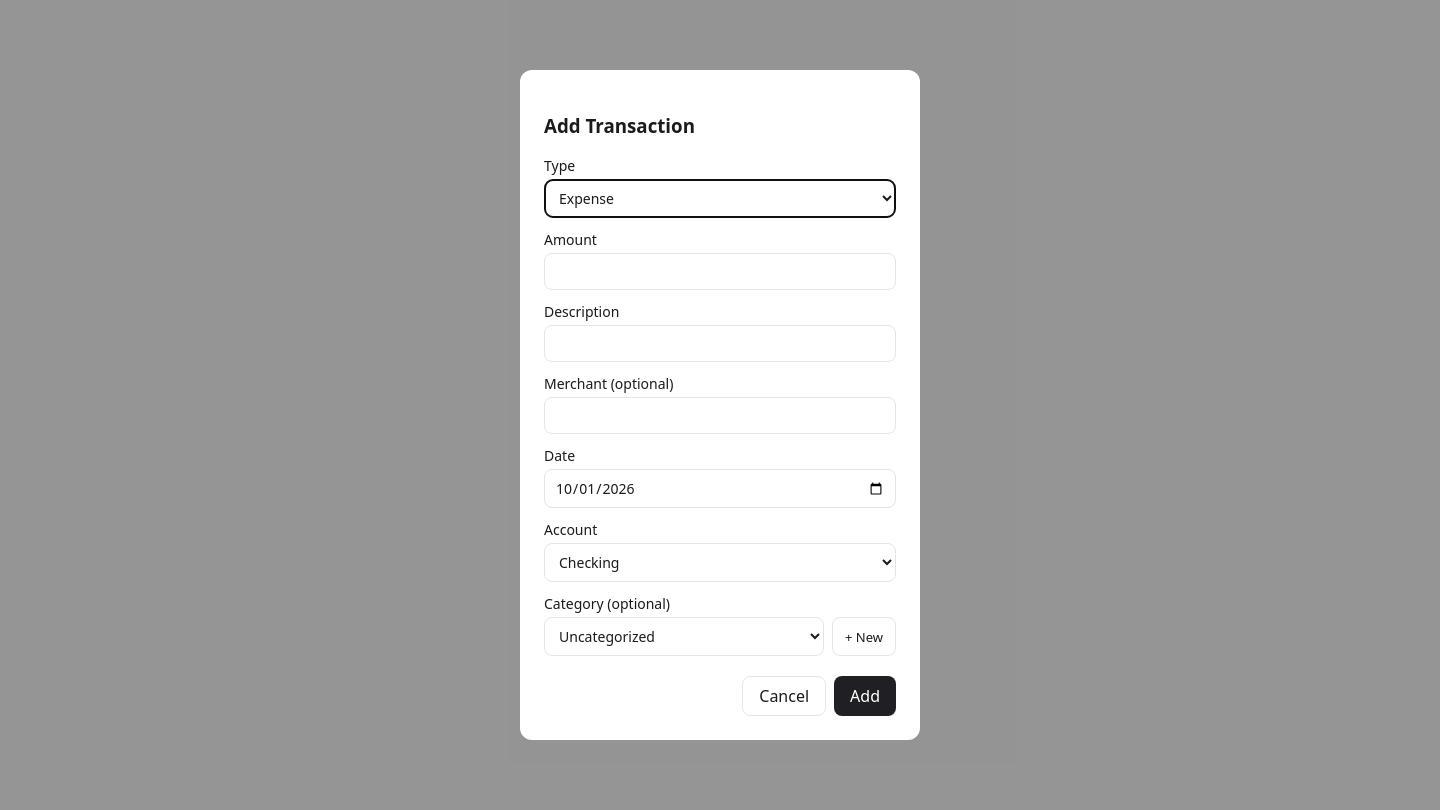
TransactionFormModal › shows a category suggestion after typing a merchant with history, and applies it
Type "Netflix" into the field labelled "Merchant (optional)" at (720, 416), box [544, 397, 896, 434]
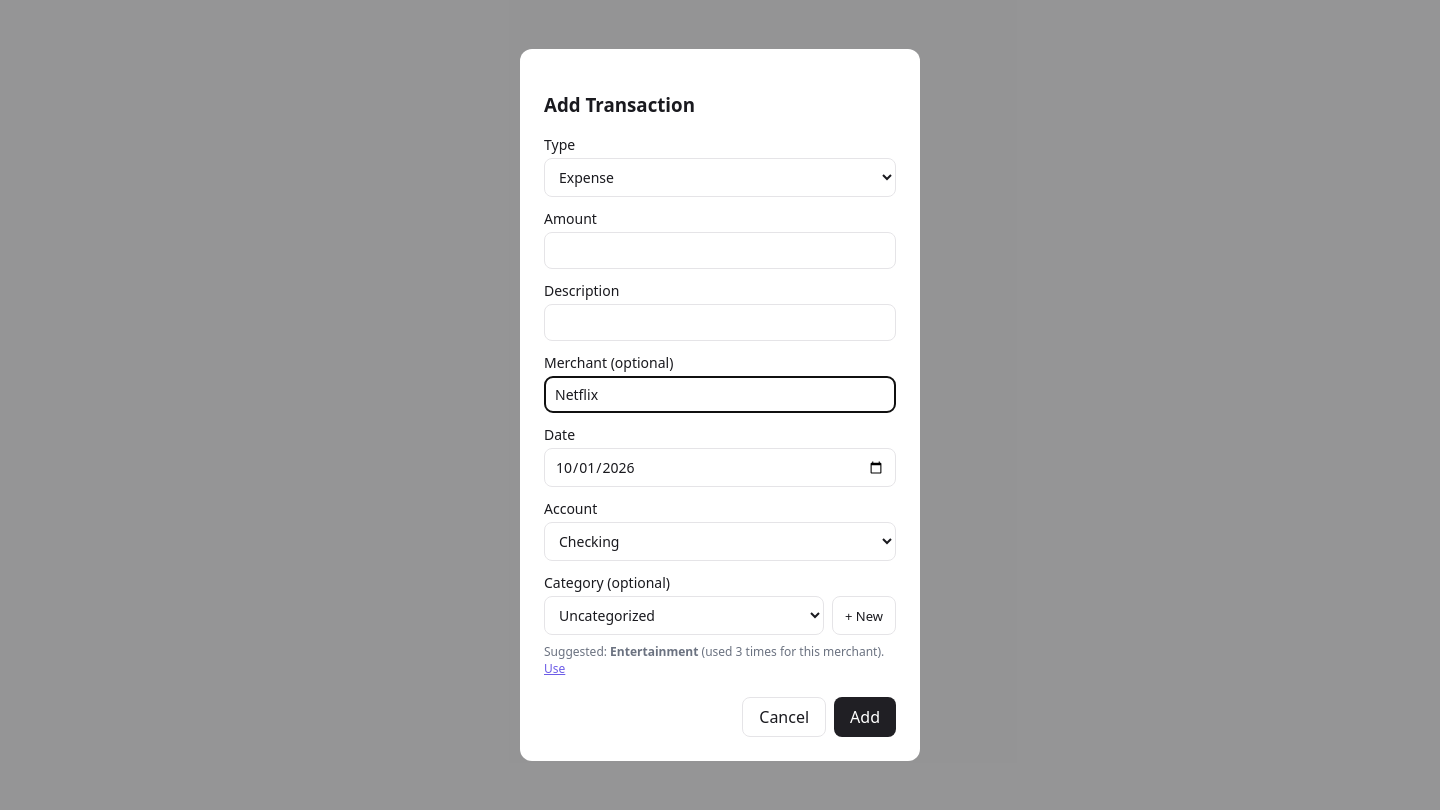
Result: the text "Suggested:" is shown at [544, 643, 610, 660]
Click the button "Use" at (555, 669), box [544, 660, 565, 677]
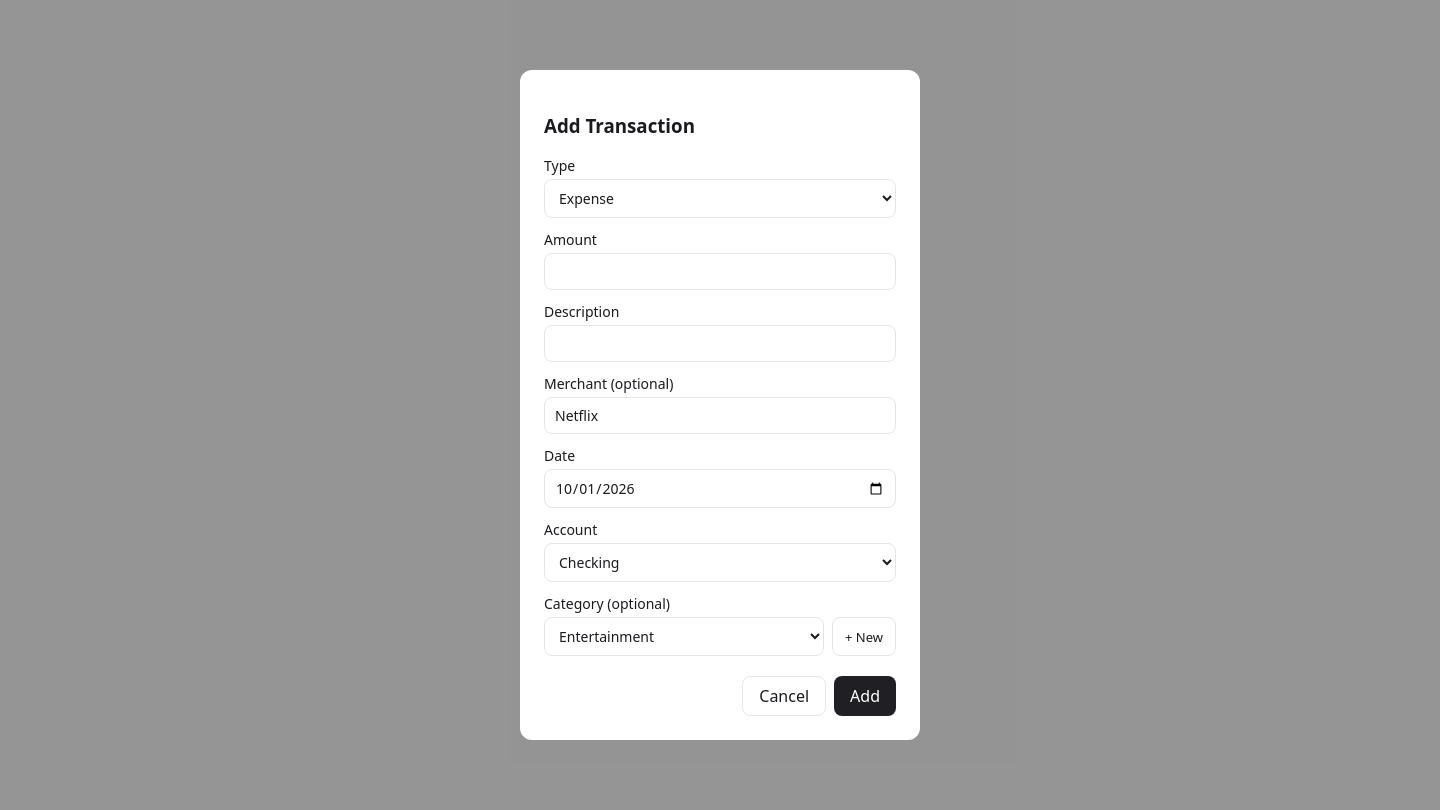
Result: the dropdown named "categoryId" shows "Entertainment" at [544, 617, 824, 656]
Result: the text "Suggested:" is gone
